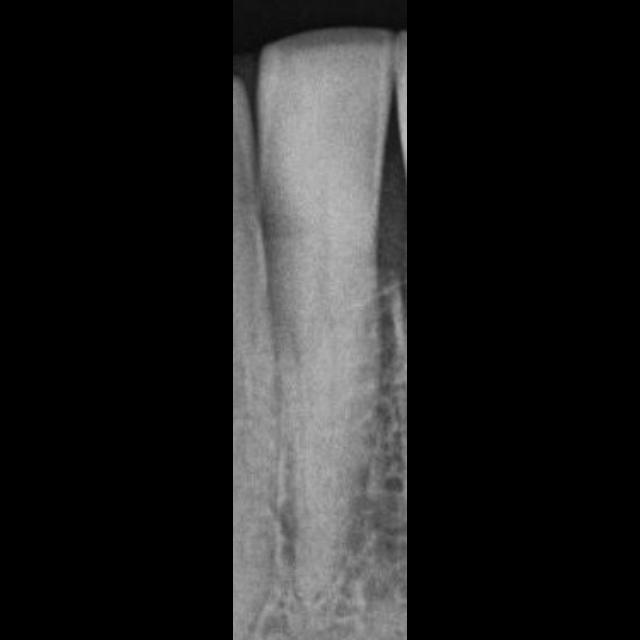tooth: (256, 25, 395, 602)
